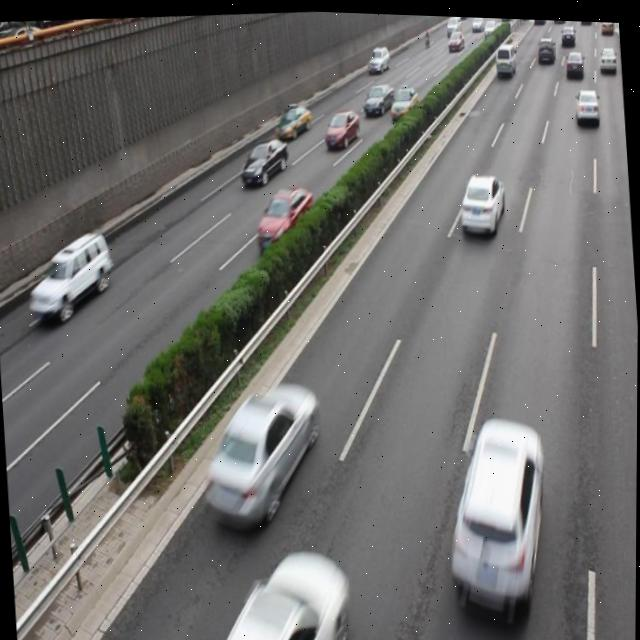car: (439, 408, 553, 614), (197, 376, 323, 530), (220, 544, 352, 640), (26, 227, 114, 317), (253, 180, 315, 252), (456, 165, 506, 233), (236, 133, 289, 187), (322, 103, 360, 146), (273, 100, 312, 139), (360, 78, 392, 113), (388, 81, 419, 117), (572, 82, 599, 122)
